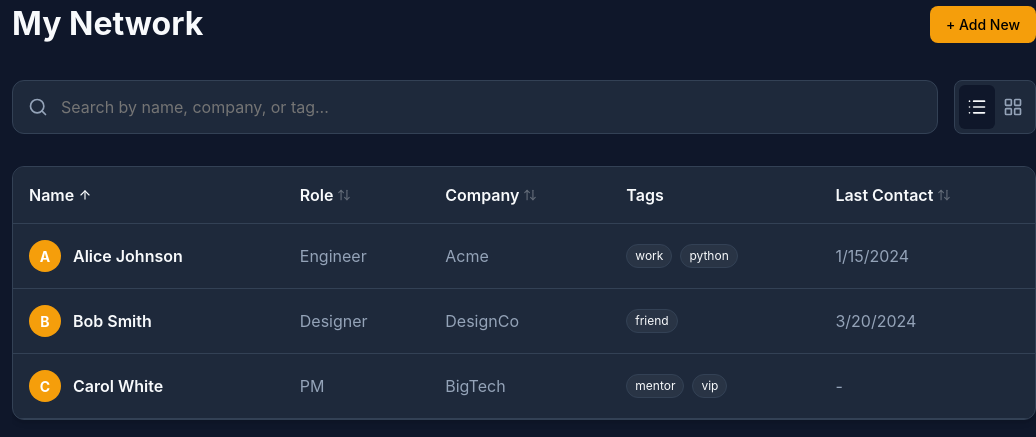
Test case: ConnectionList › filters connections by tag search
In the field with placeholder "Search by name, company, or tag...": [475, 107] box [12,80,938,134], type "mentor"
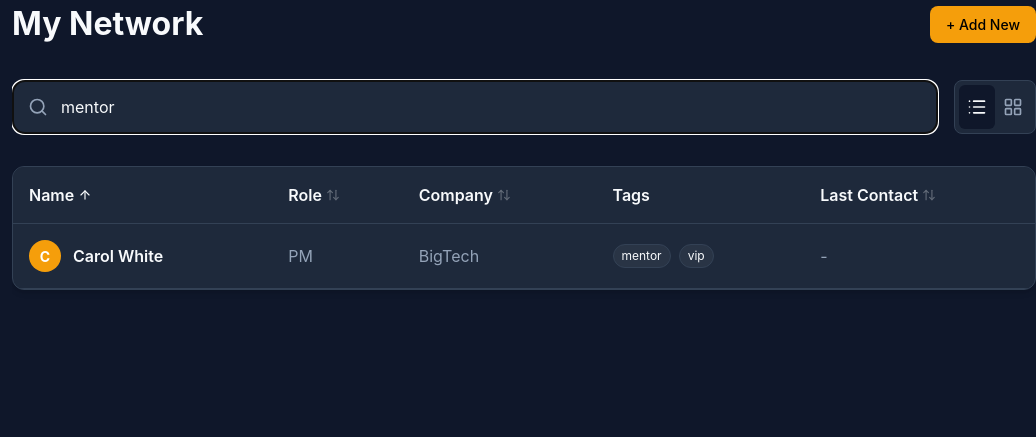
Expected: the link "C Carol White" is shown, [29,240,163,272]
Expected: the link "Alice Johnson" is gone
